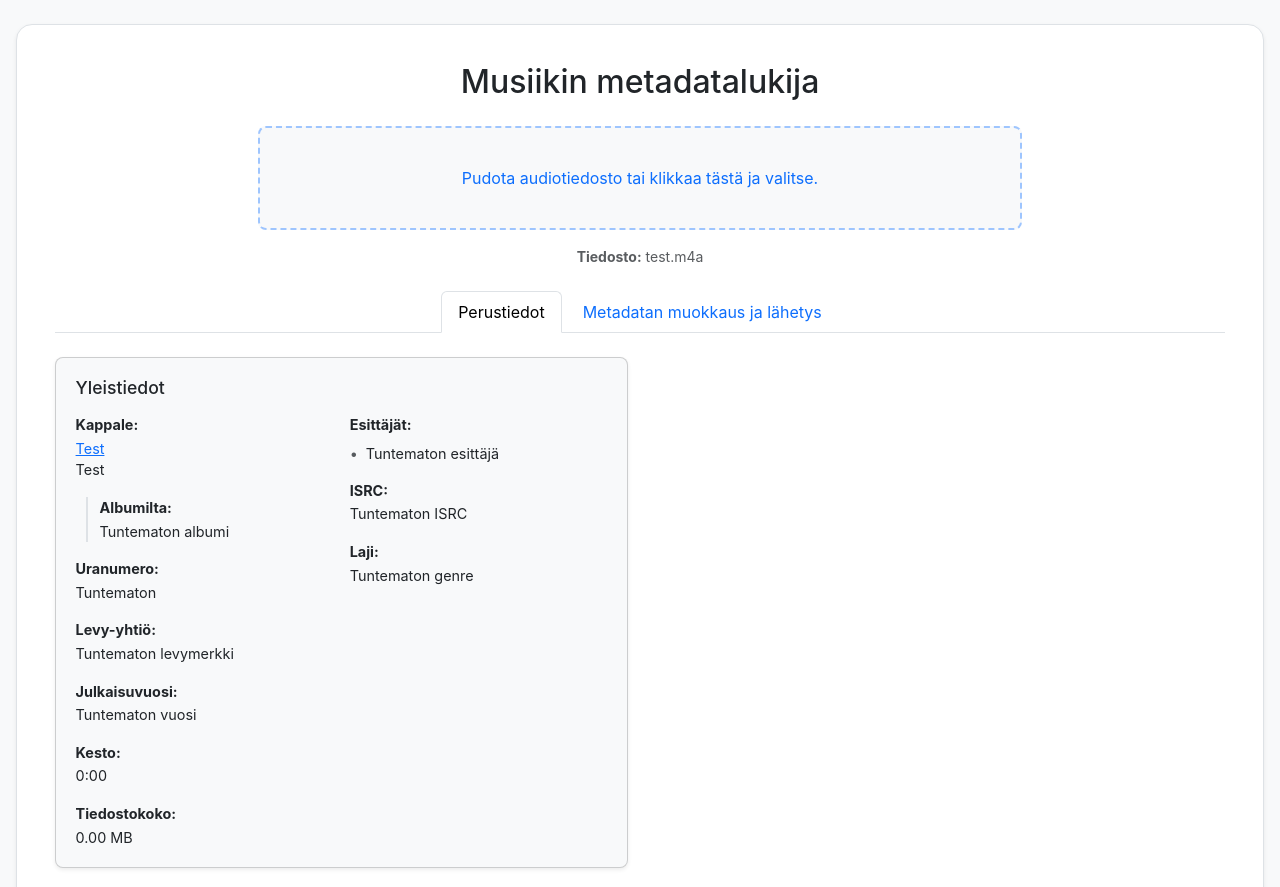
reports backend errors when sending metadata fails
The width and height of the screenshot is (1280, 887).
Earlier steps of the test are not shown.
Click the tab "Metadatan muokkaus ja lähetys".
click(702, 312)  # box [566, 291, 839, 333]
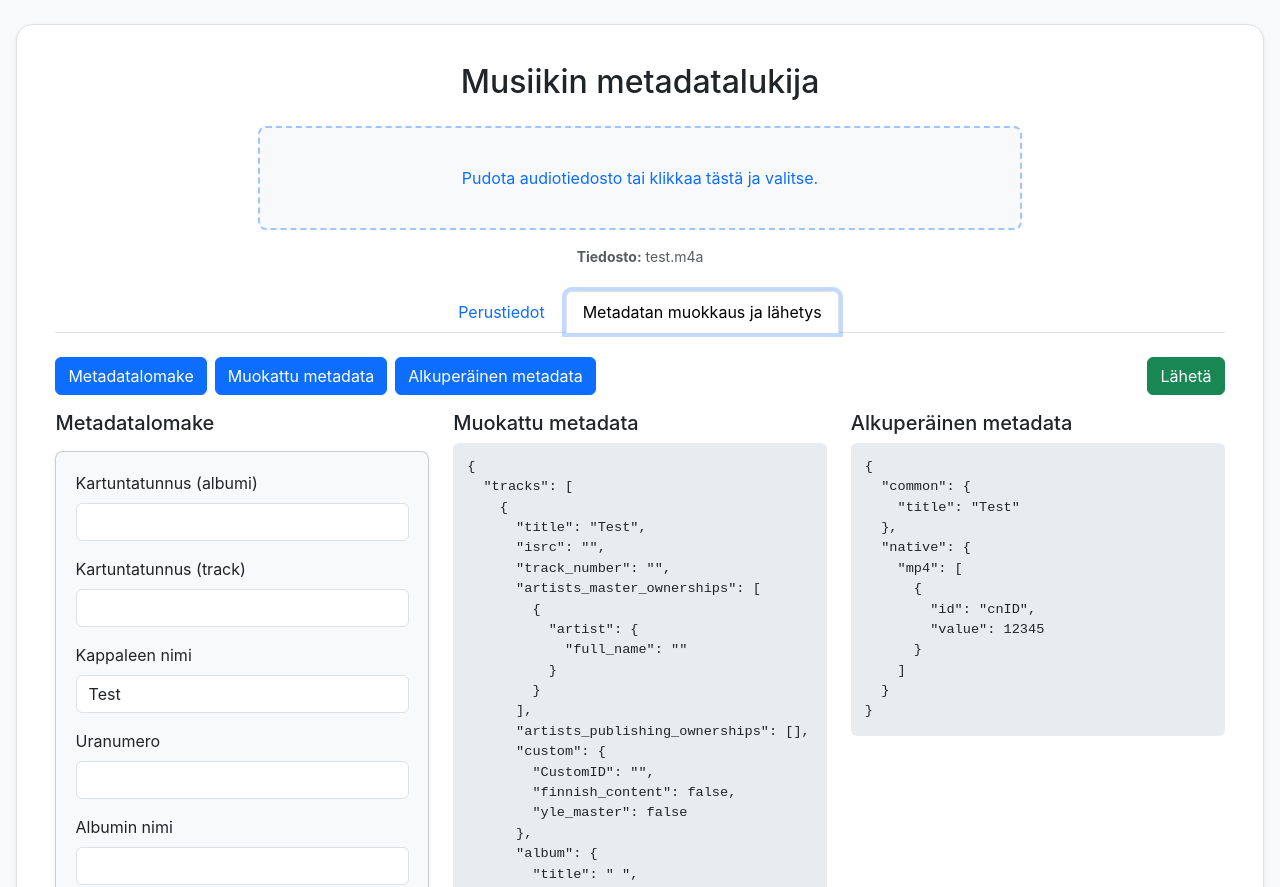
Click the button "Lähetä".
click(1186, 376)  # box [1148, 357, 1225, 395]
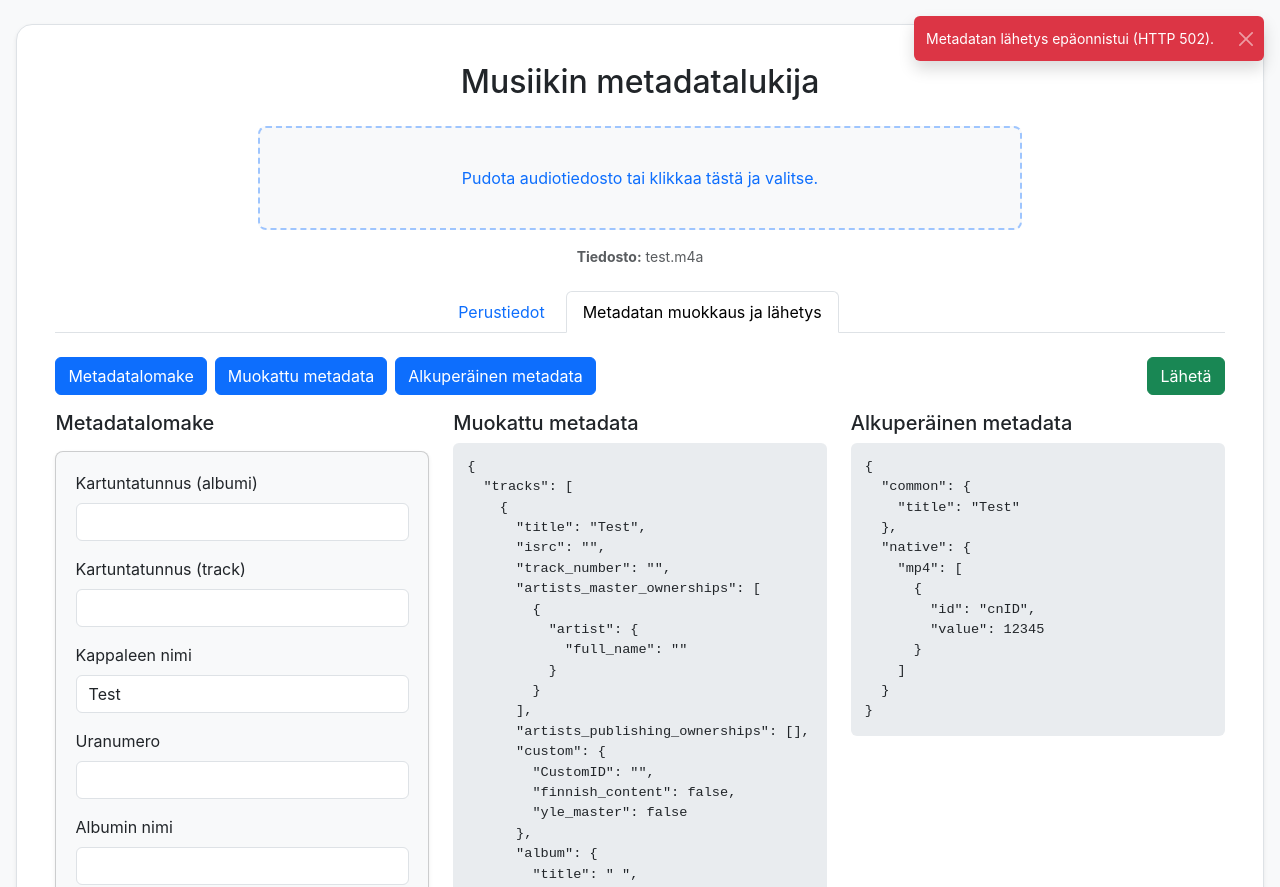
expect the message reads "Metadatan lähetys epäonnistui (HTTP 502).": met, box [926, 30, 1214, 47]
